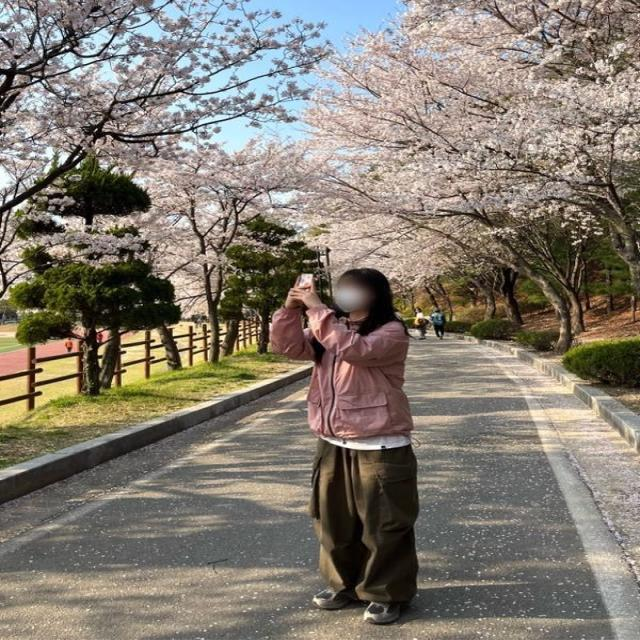cottonpants: (316, 438, 426, 609)
zipup: (268, 304, 410, 444)
